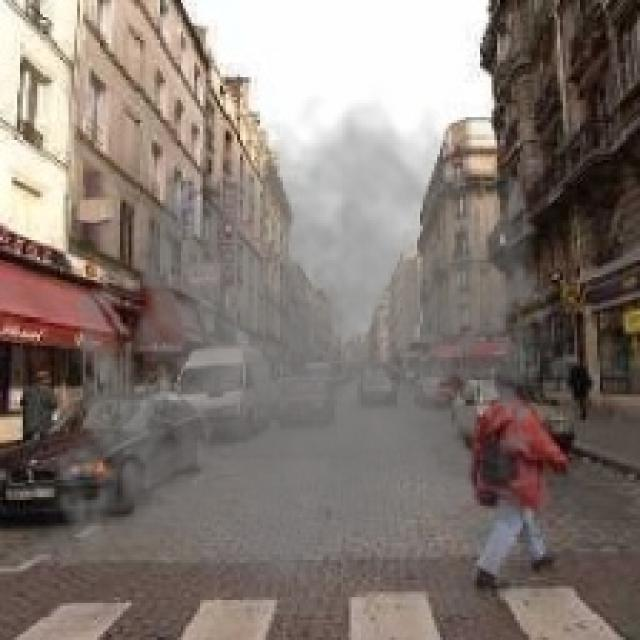smoke: (40, 80, 560, 614)
